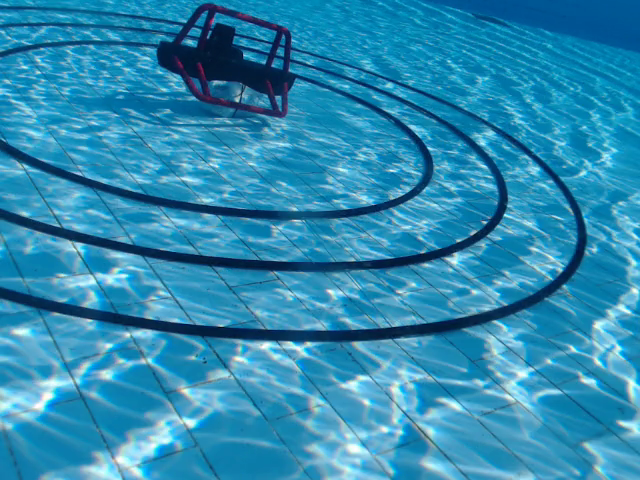submarine: (159, 3, 293, 120)
